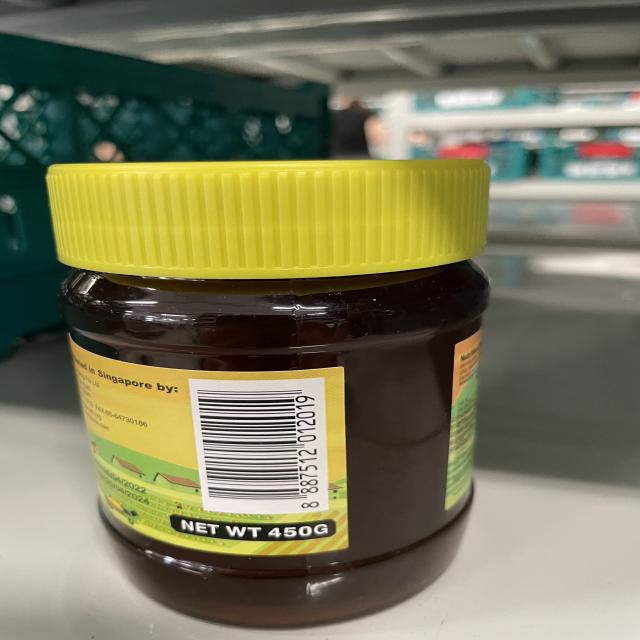object_name: (43, 162, 480, 619)
